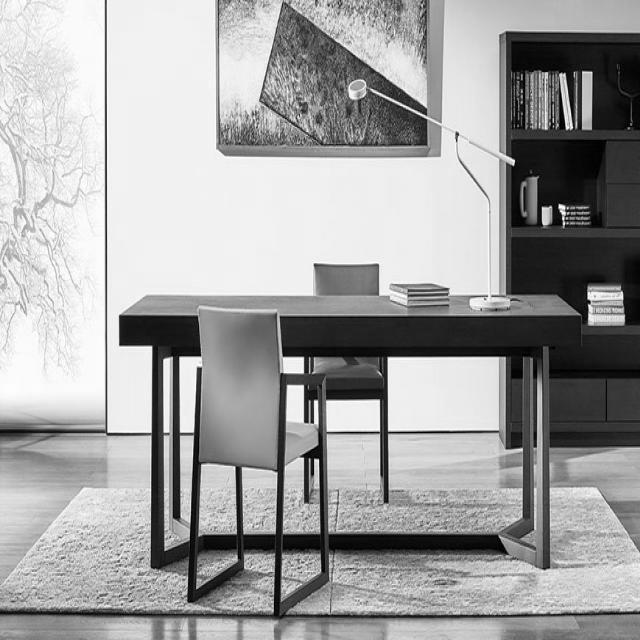table: (106, 254, 590, 436)
